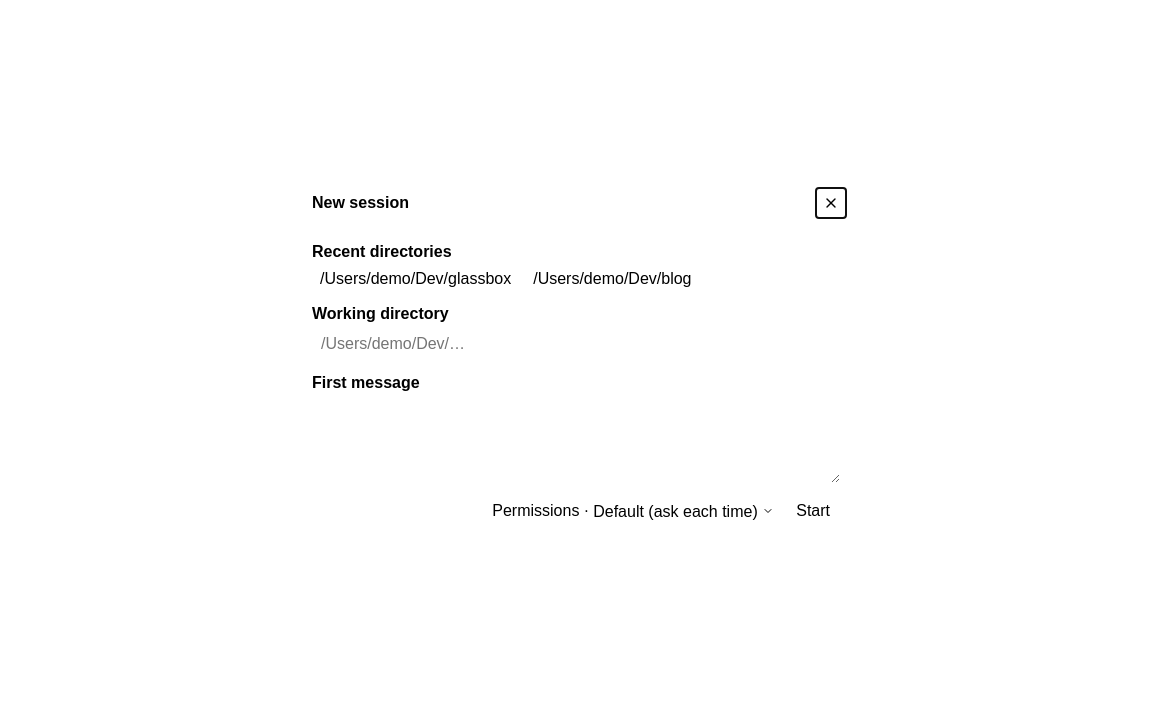
Test: NewSessionDialog › offers recent directories whole when they fit, picked with a click
The width and height of the screenshot is (1152, 720).
Click the button "/Users/demo/Dev/blog".
click(612, 279)  # box [525,267,700,291]
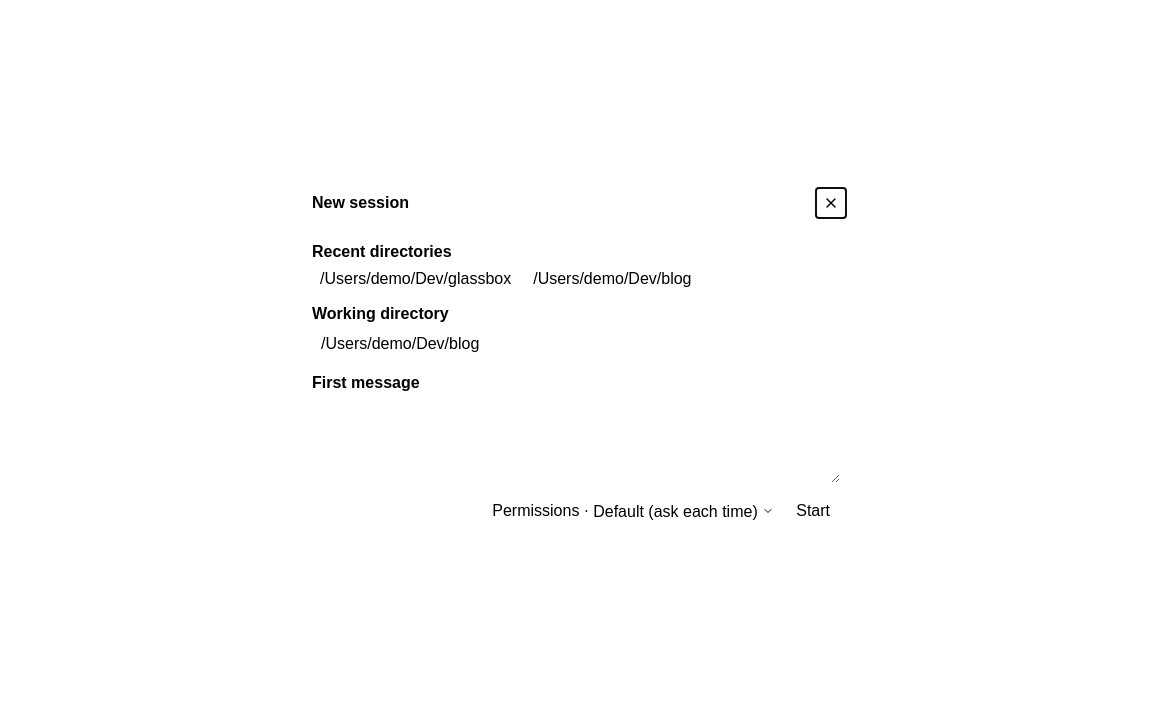
Check: the field labelled "Working directory" holds "/Users/demo/Dev/blog", box [312,328,840,360]
